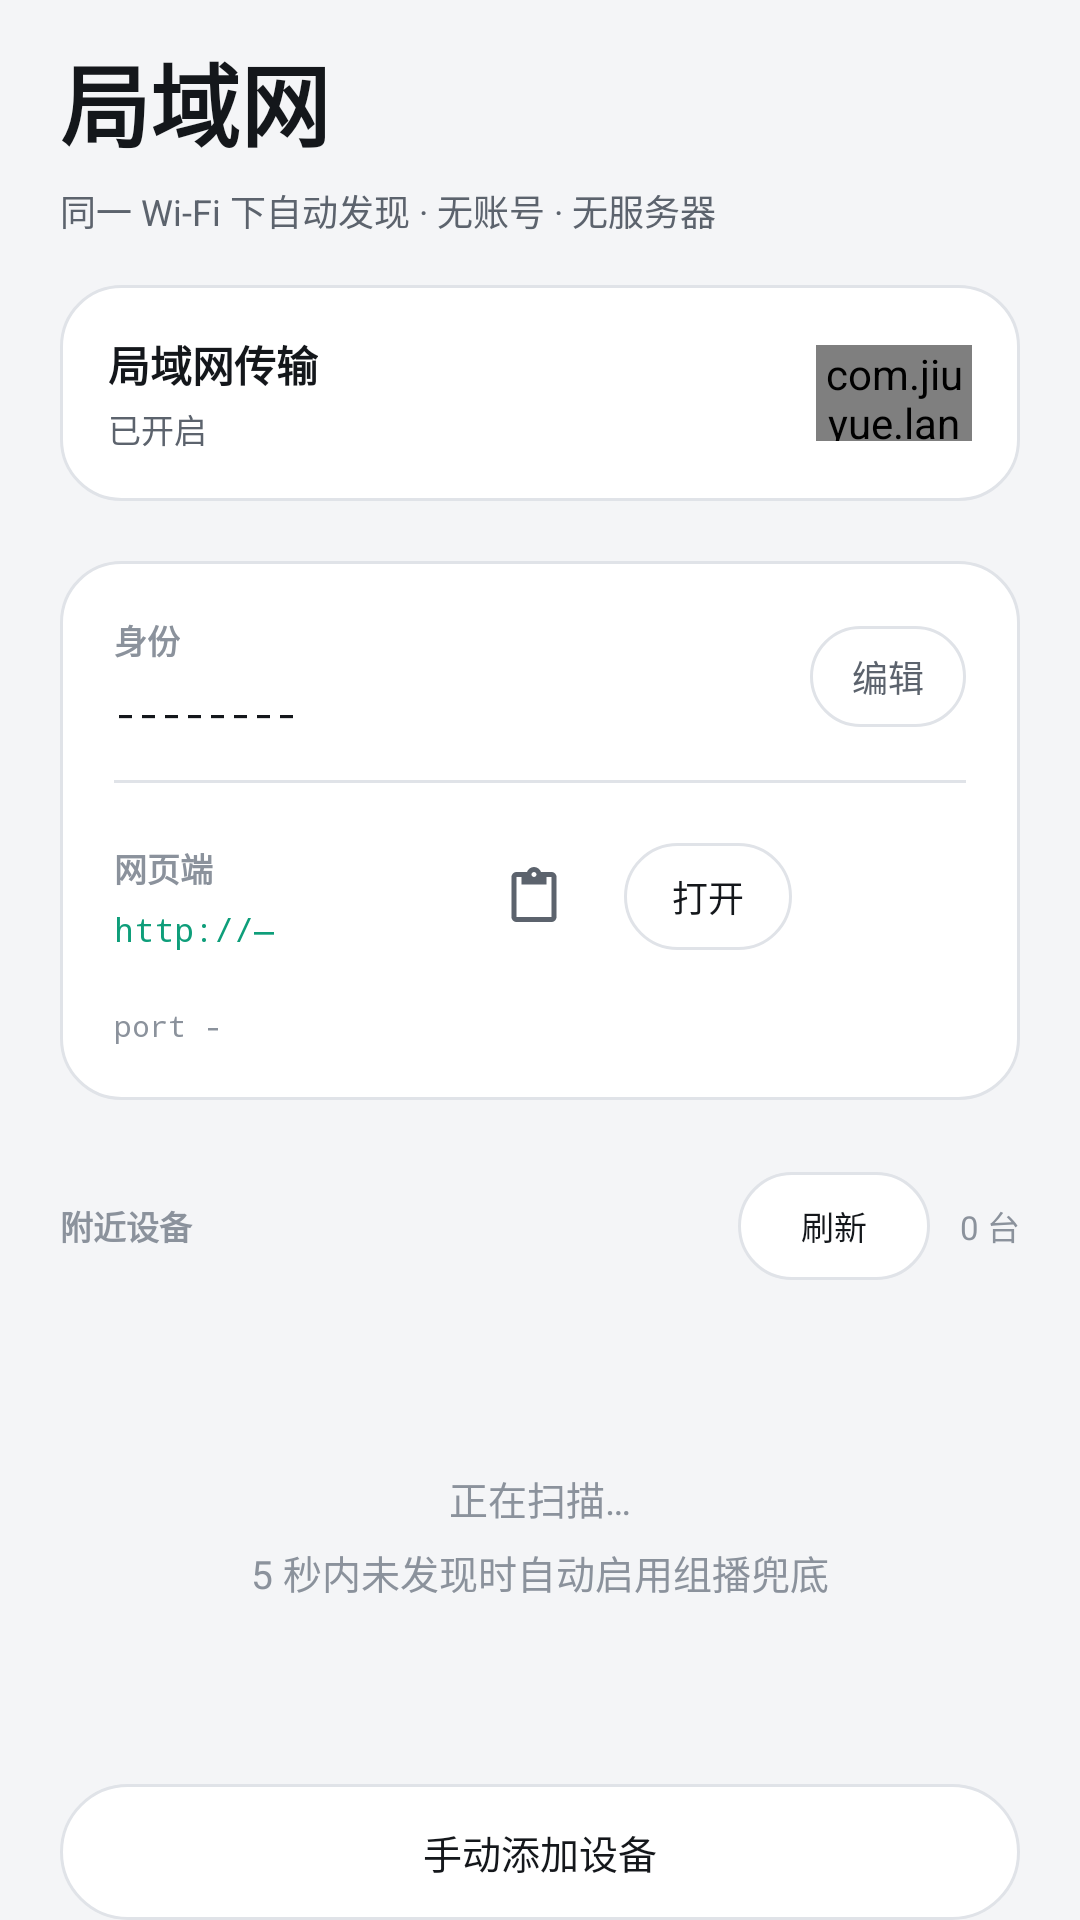

Named icons in this screenshot (1080px x 1920px) and their centers, [x,y]:
发送剪贴板到网页端: [534,894]
